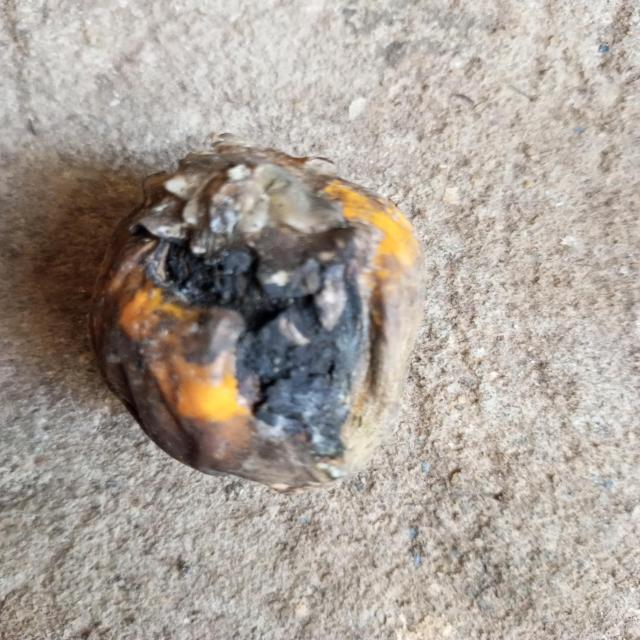damaged: (90, 135, 423, 492)
